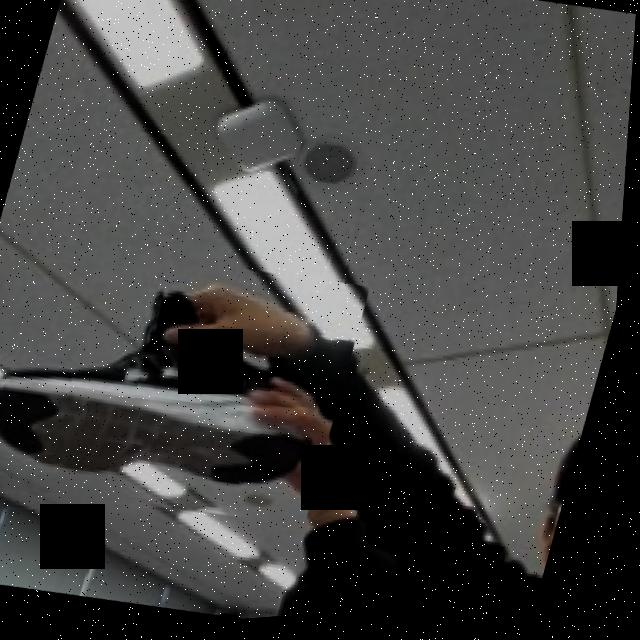shoe: (0, 213, 378, 555)
